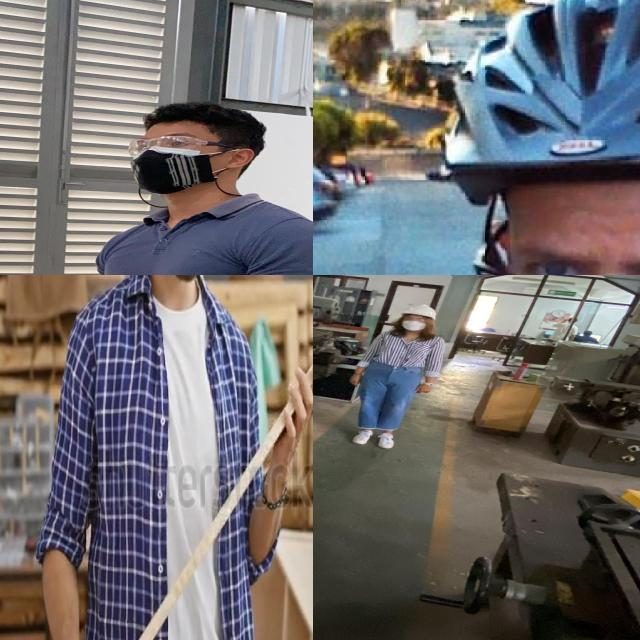face_mask: (119, 134, 218, 192), (400, 315, 430, 331)
glasses: (120, 132, 240, 157), (399, 317, 428, 322)
hand_noglove: (412, 382, 435, 394), (346, 374, 364, 387)
head_helmet: (436, 0, 640, 203), (400, 304, 440, 318)
head_nohelmet: (136, 96, 262, 131)
person: (36, 275, 301, 640), (29, 95, 313, 275), (344, 302, 458, 452)
shoes: (350, 428, 377, 447), (375, 430, 397, 449)
